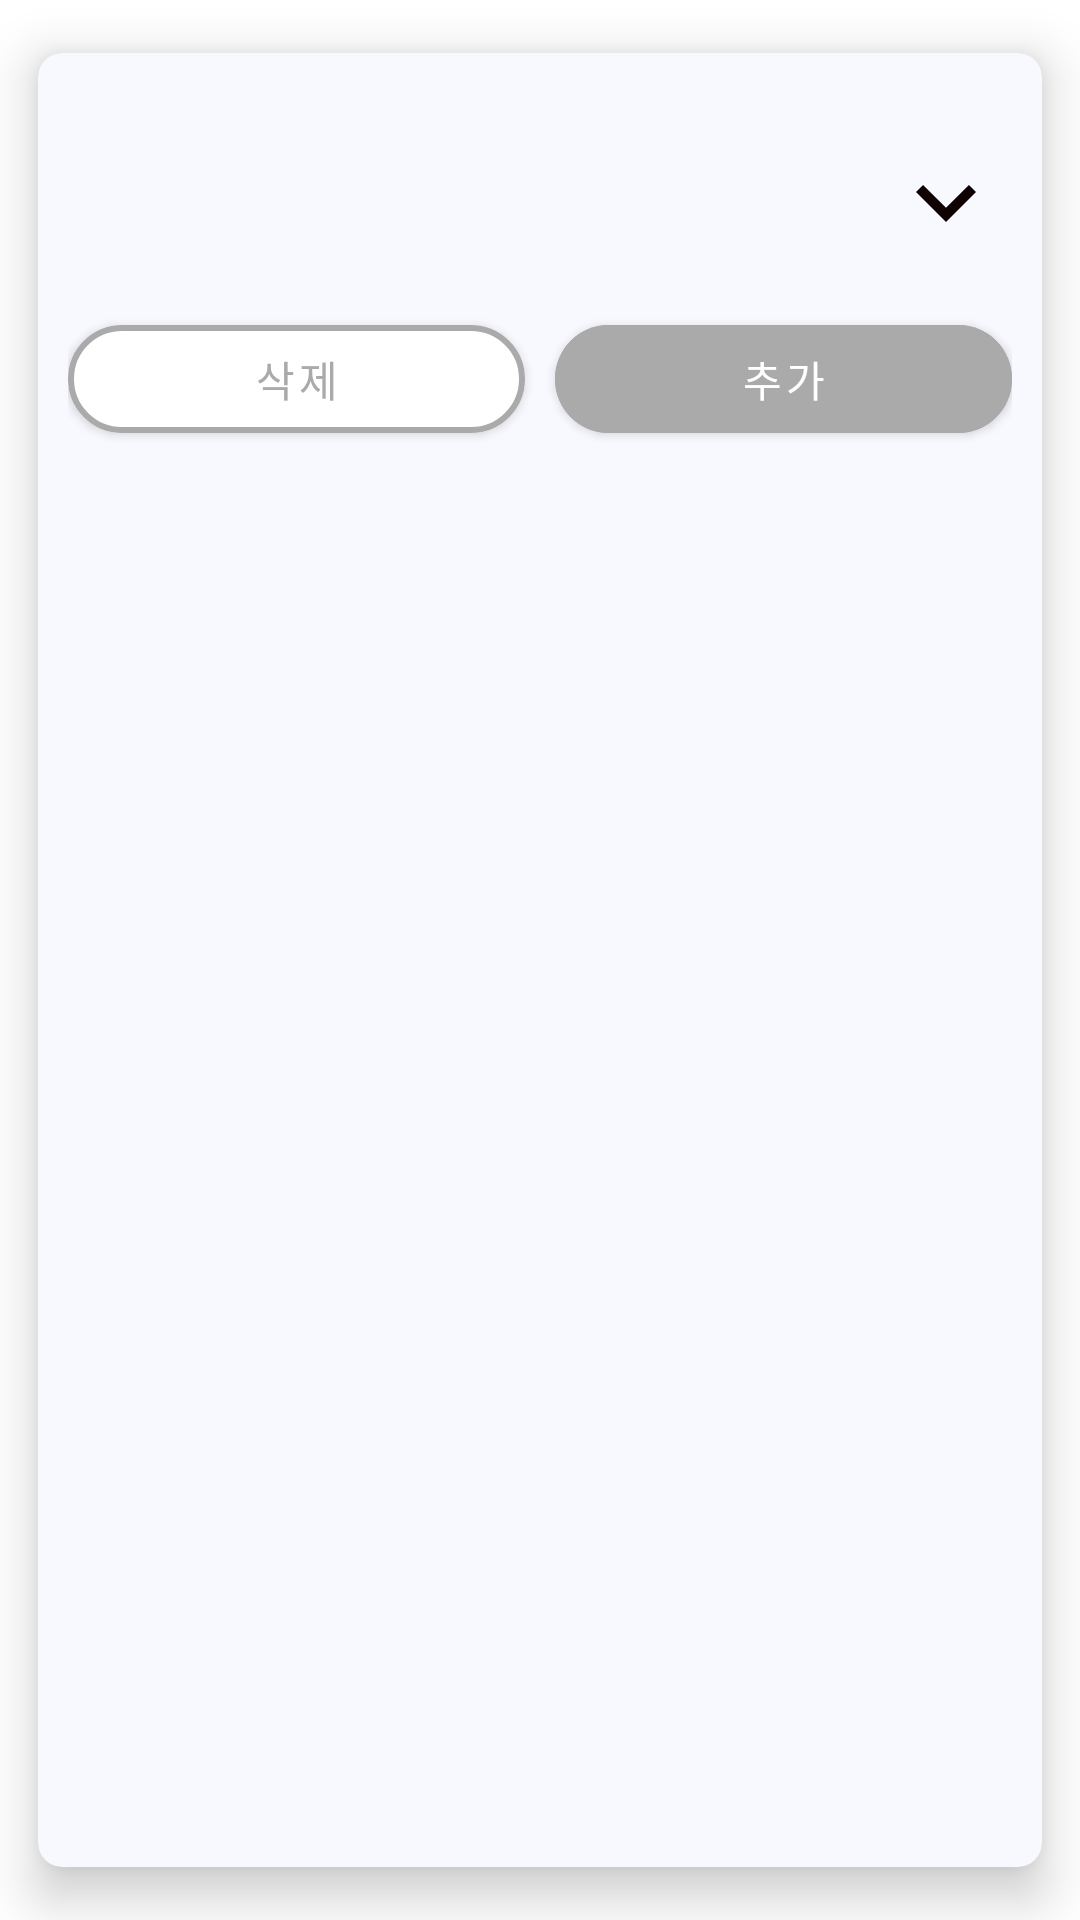

Icon bounding boxes for this 1080×1920 phone screenshot, format (x1, y1, x2, y2):
keyboard arrow down: (916, 185, 976, 222)
